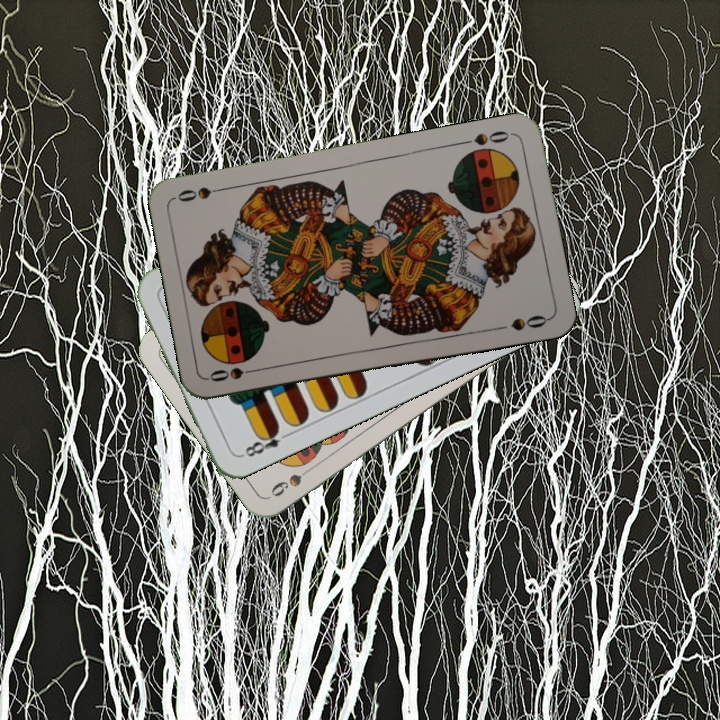E8: (237, 422, 293, 460)
S9: (266, 469, 308, 500)
SO: (205, 363, 265, 385), (457, 126, 516, 148)
